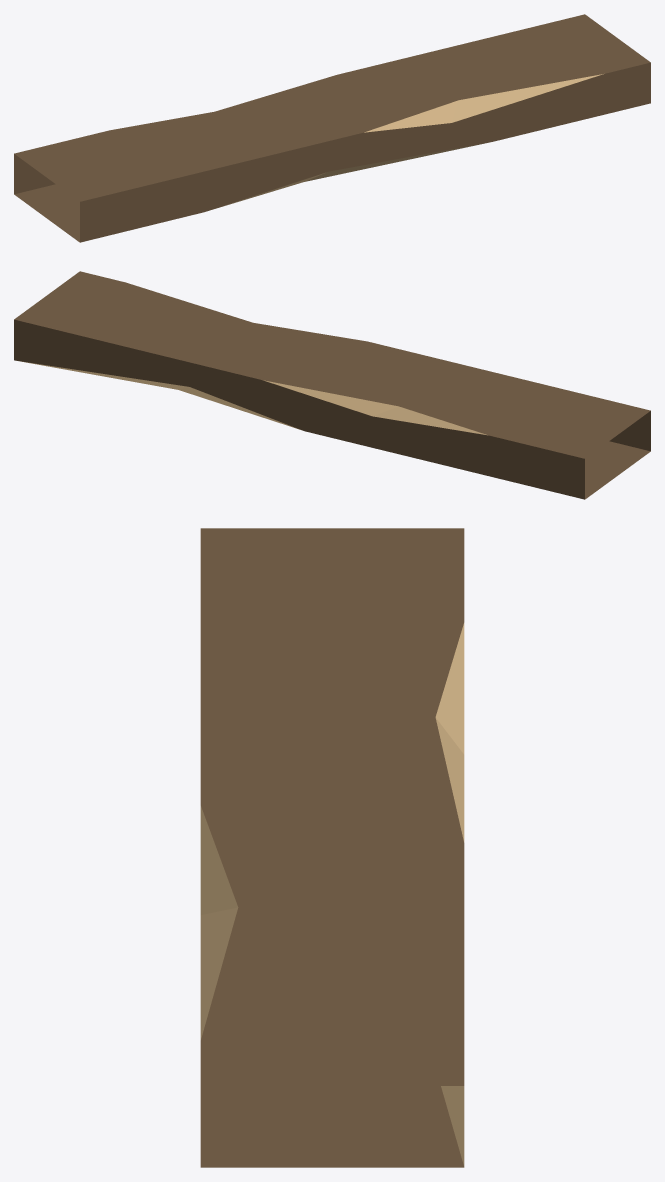
The model's file is rpgpp_ag_wall_connector_bottom_01b_3m.fbx.
3 renders of one model, top to bottom at view 1: azimuth 30°, elevation 25°; view 2: azimuth 150°, elevation 25°; view 3: azimuth 270°, elevation 25°, orthographic. The views are drawn at different scales.
Visible parts, largest first — view 1: rpgpp_ag_wall_connector_bottom_01b_3m; view 2: rpgpp_ag_wall_connector_bottom_01b_3m; view 3: rpgpp_ag_wall_connector_bottom_01b_3m.
Part boxes in pixels (left/top/right/bottom): rpgpp_ag_wall_connector_bottom_01b_3m: left=14, top=14, right=650, bottom=242; rpgpp_ag_wall_connector_bottom_01b_3m: left=14, top=271, right=650, bottom=499; rpgpp_ag_wall_connector_bottom_01b_3m: left=200, top=528, right=464, bottom=1167.
Size of the model in its own units: 3 by 0.205 by 0.6.
